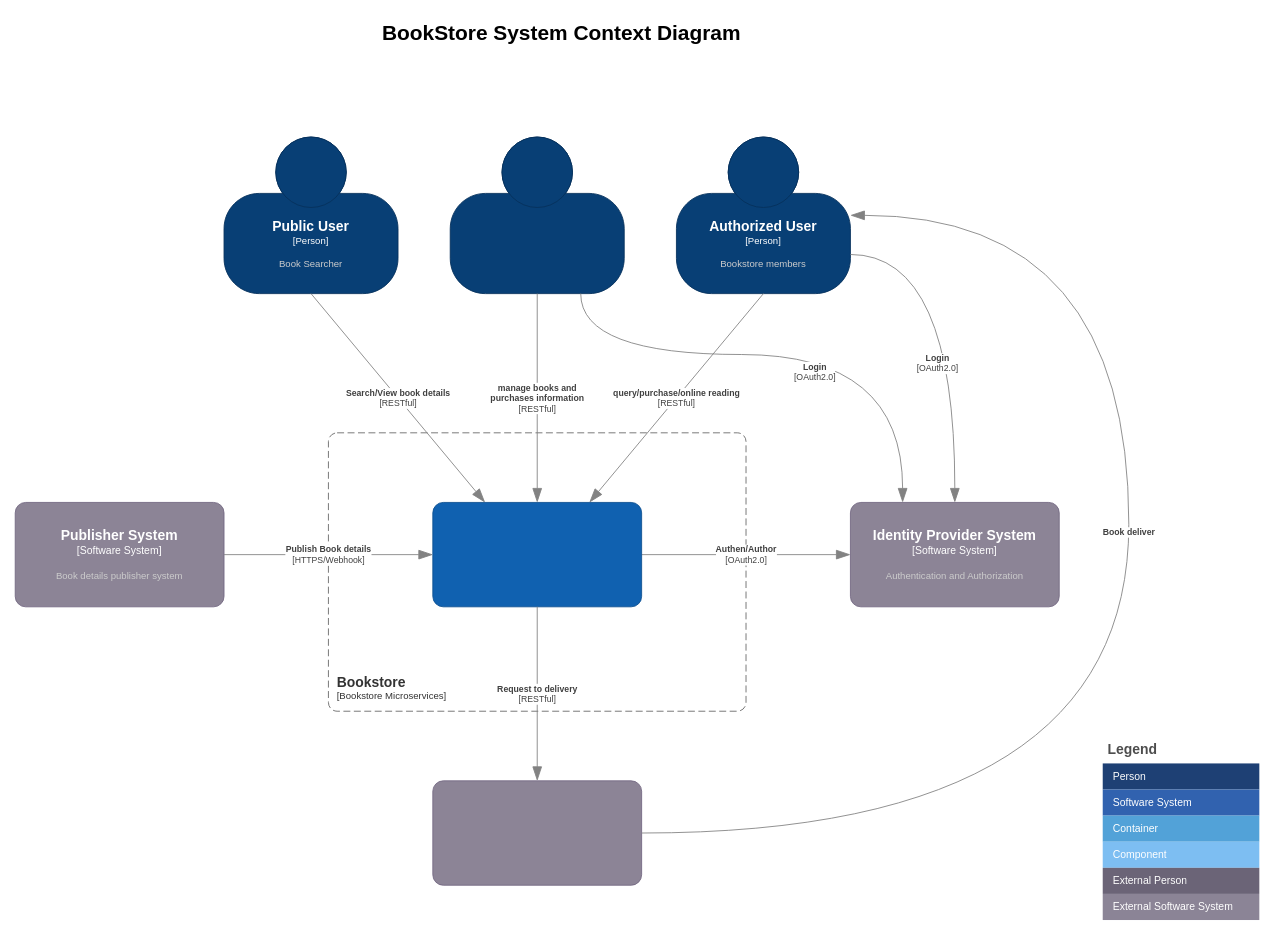
The diagram is 1275 pixels wide and 934 high, and some of its shapes have lost their labels. The shapes that lost their labels are listed below. From the top down, each one's centre as x and y in pixels, then its label:
point 536,215: Internal User [Person] Administrators
point 537,554: Bookstore system [Software System] Bookstore Microservices
point 537,832: Shipping Service [Software System] Book Delivery
